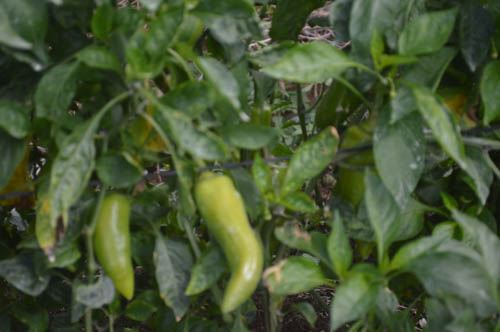ChiliPepper: (192, 176, 262, 313), (94, 194, 134, 298)
